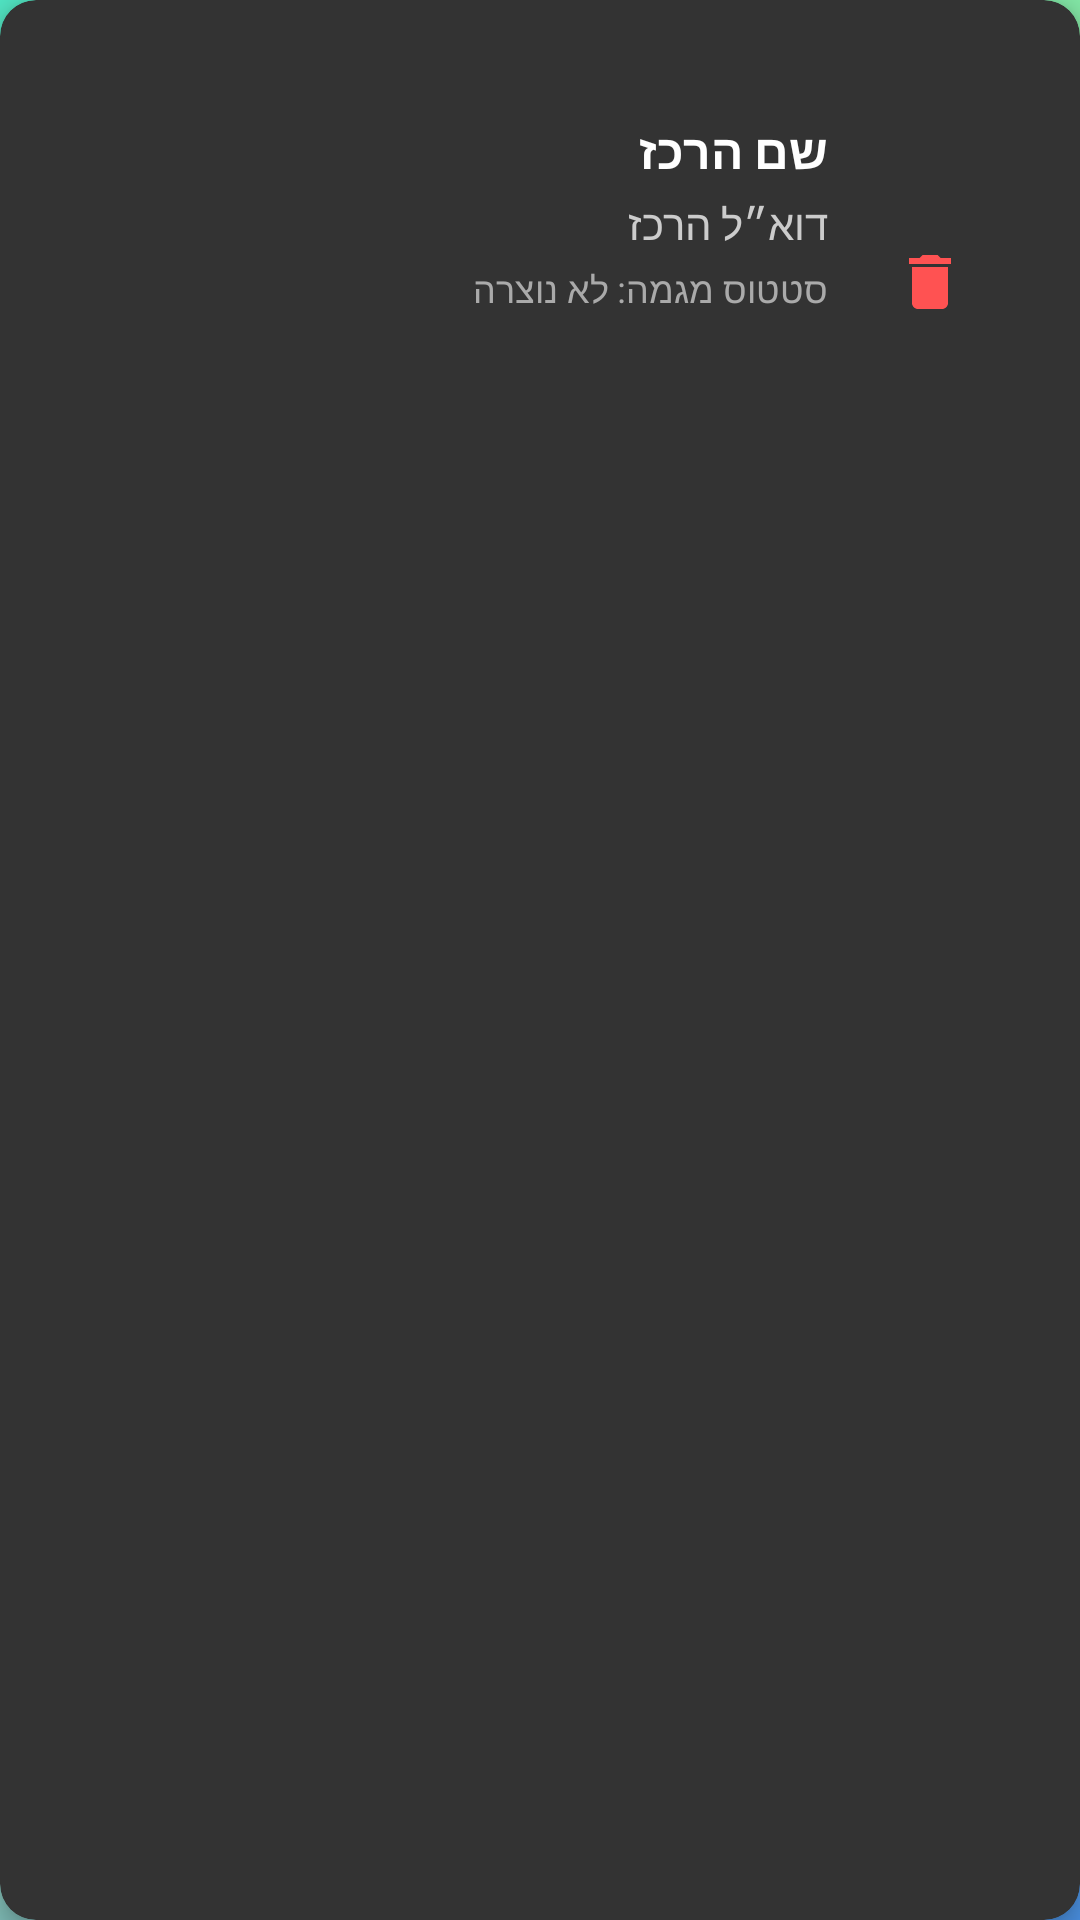

Locate icon controls on the screen. Image size 1080 × 1920, boxes as (x1, y1, x2, y2).
מחק רכז: (909, 255, 951, 309)
